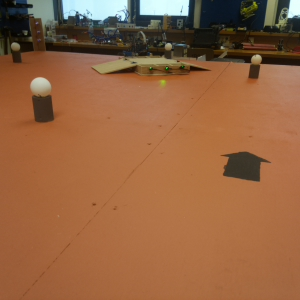corner: (27, 16, 48, 52)
obstacle: (29, 76, 57, 123), (246, 54, 264, 81), (10, 42, 23, 63), (164, 43, 174, 58)
side: (140, 64, 192, 75)
slope: (91, 58, 139, 78)
start: (222, 151, 271, 182)
